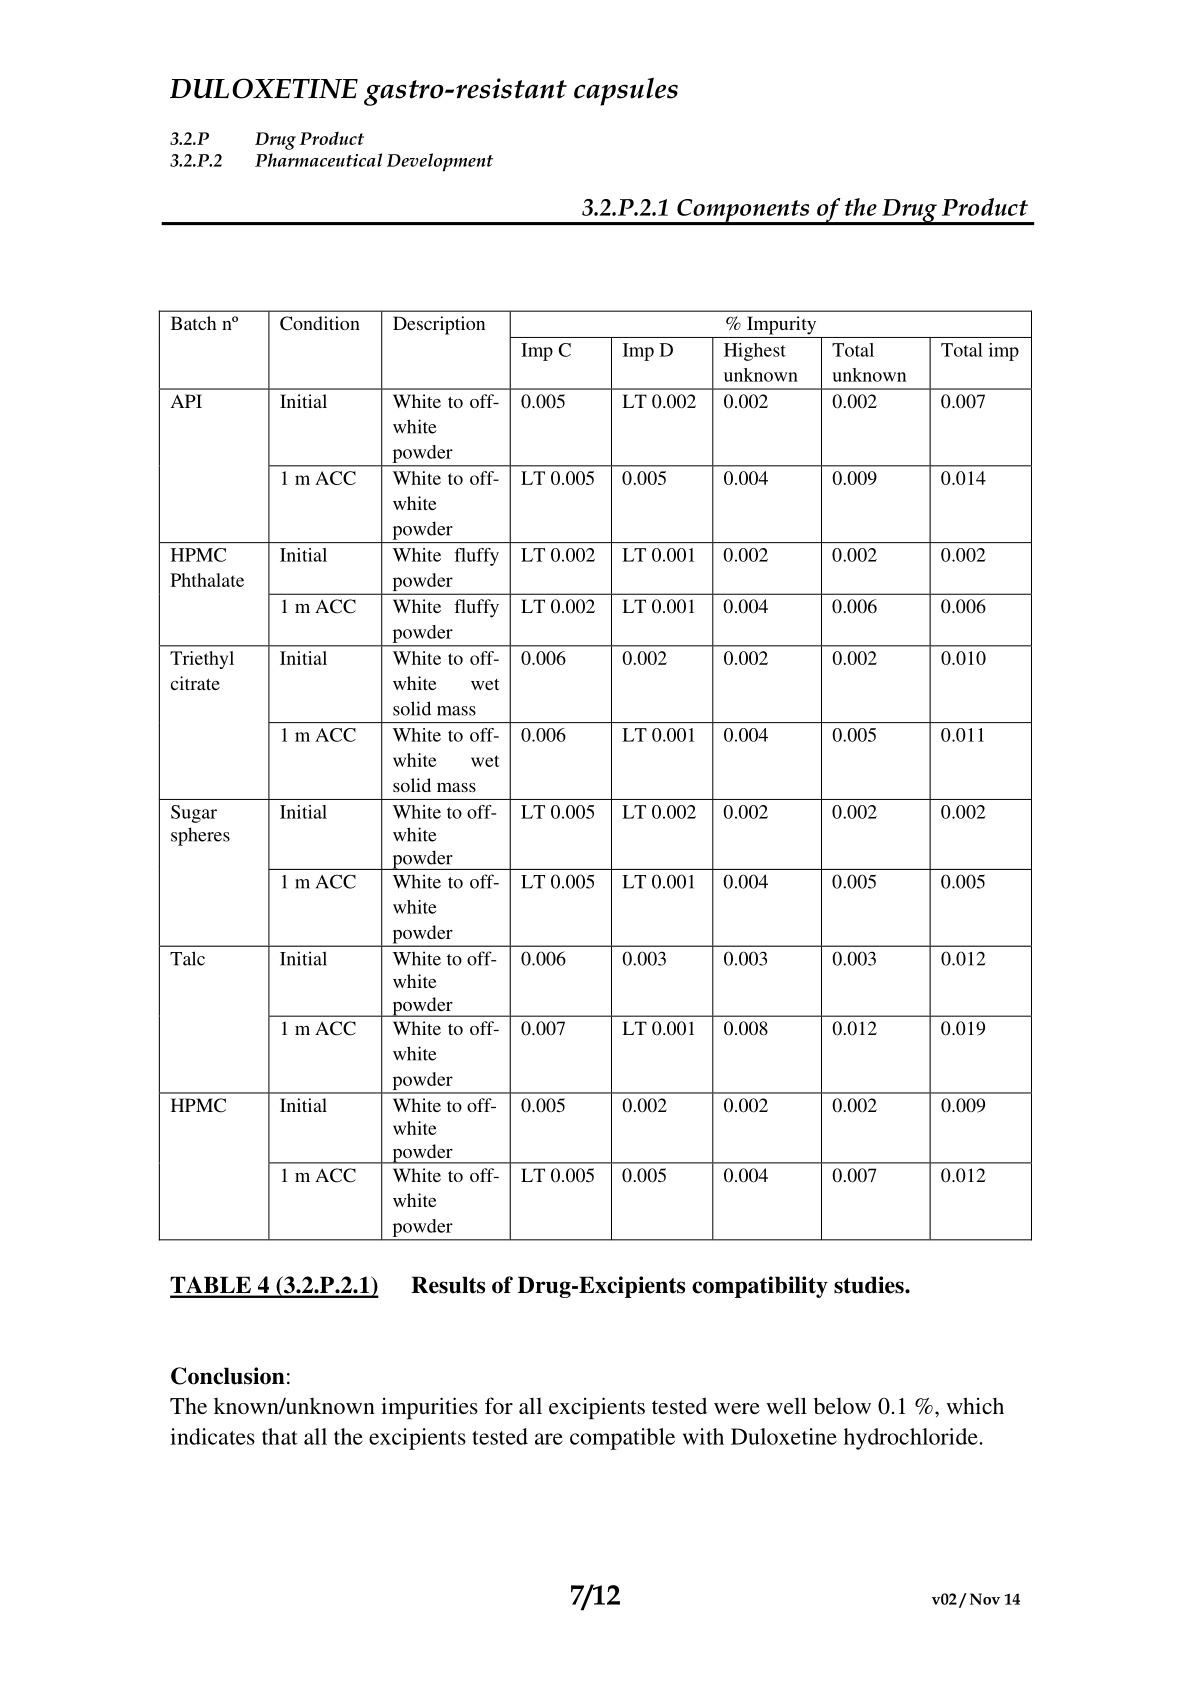merged_cells: (159, 309, 1032, 1241)
